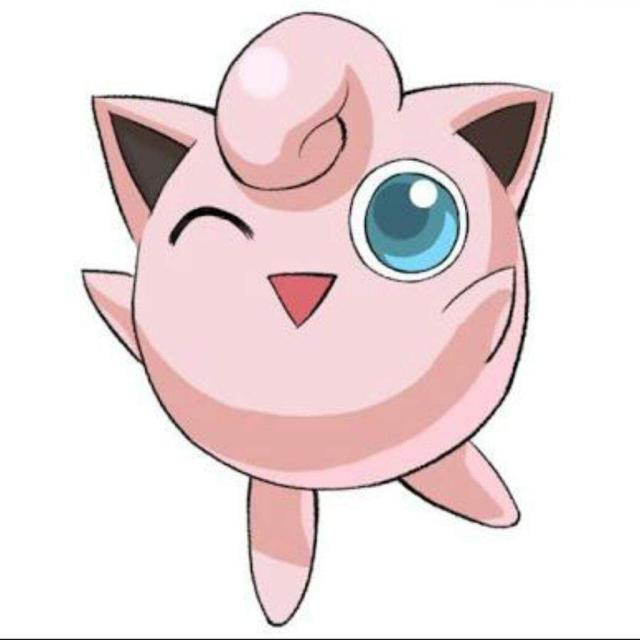Jigglypuff: (90, 15, 564, 506)
